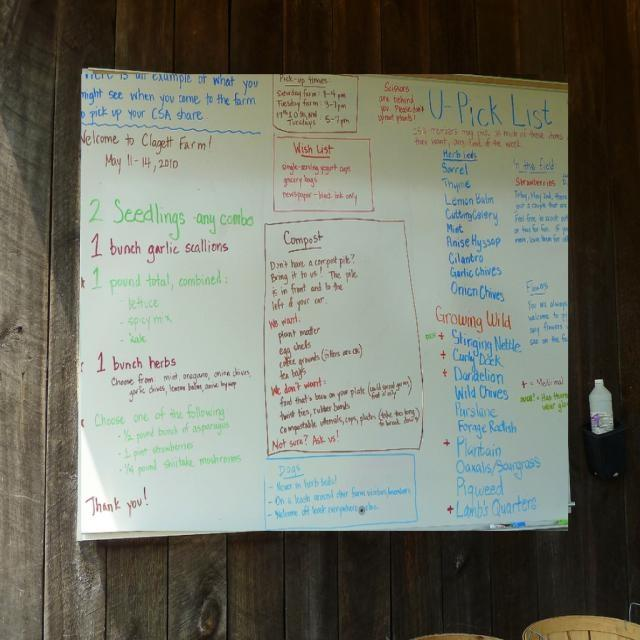Whiteboard: (77, 66, 569, 542)
